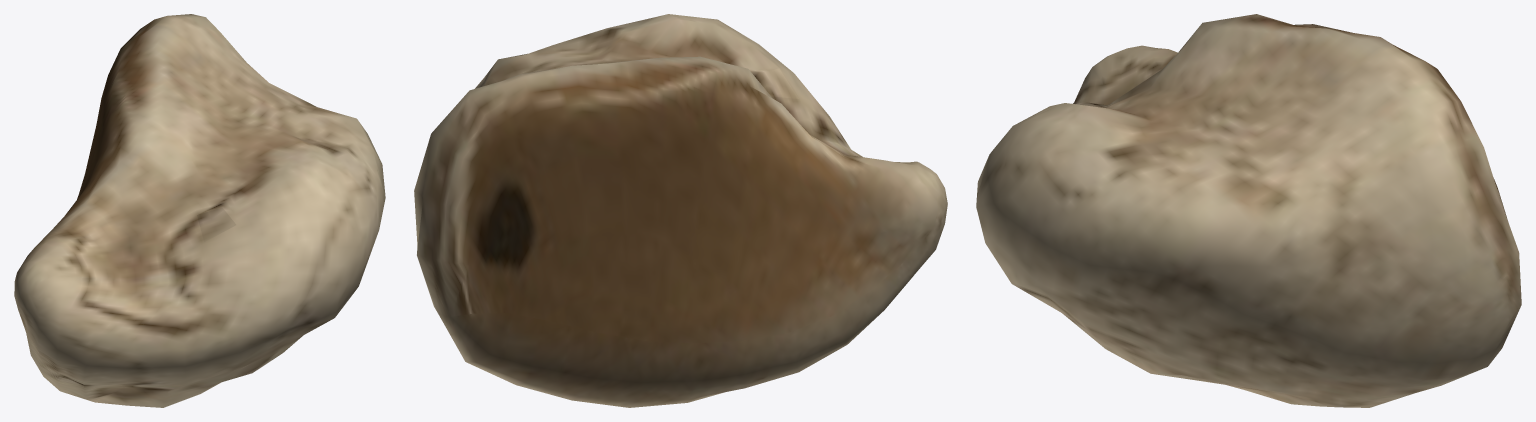
Rendered from Patella.glb.
3 renders of one model, left to right at view 1: azimuth 30°, elevation 25°; view 2: azimuth 150°, elevation 25°; view 3: azimuth 270°, elevation 25°, orthographic. The views are drawn at different scales.
Parts seen in each view (by area): view 1: L_Bck_Patella; view 2: L_Bck_Patella; view 3: L_Bck_Patella.
Part boxes in pixels (x1,y1,x2,y2): L_Bck_Patella: (14,14,385,407); L_Bck_Patella: (414,14,947,407); L_Bck_Patella: (976,14,1521,407).
Size of the model in its own units: 0.0661 by 0.0521 by 0.0674.
1 material, 1 textured.
